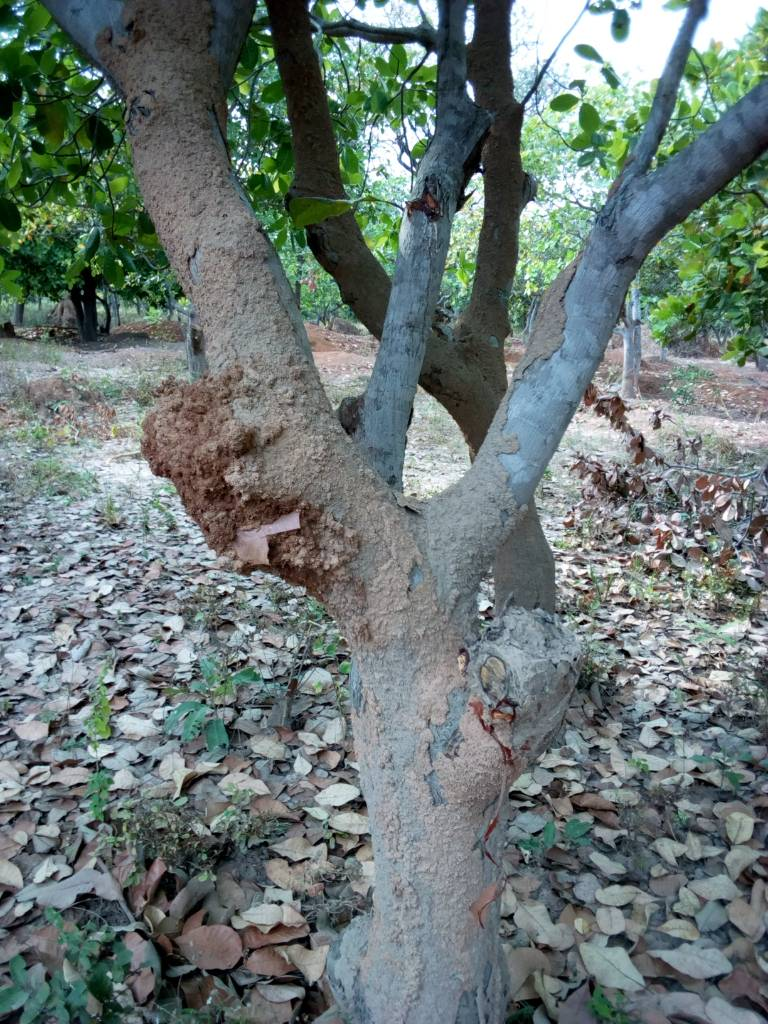Termites: (135, 30, 297, 364), (141, 371, 375, 574), (371, 632, 490, 996)
